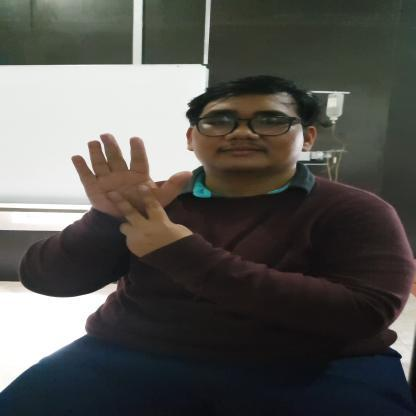N: (65, 132, 196, 245)
